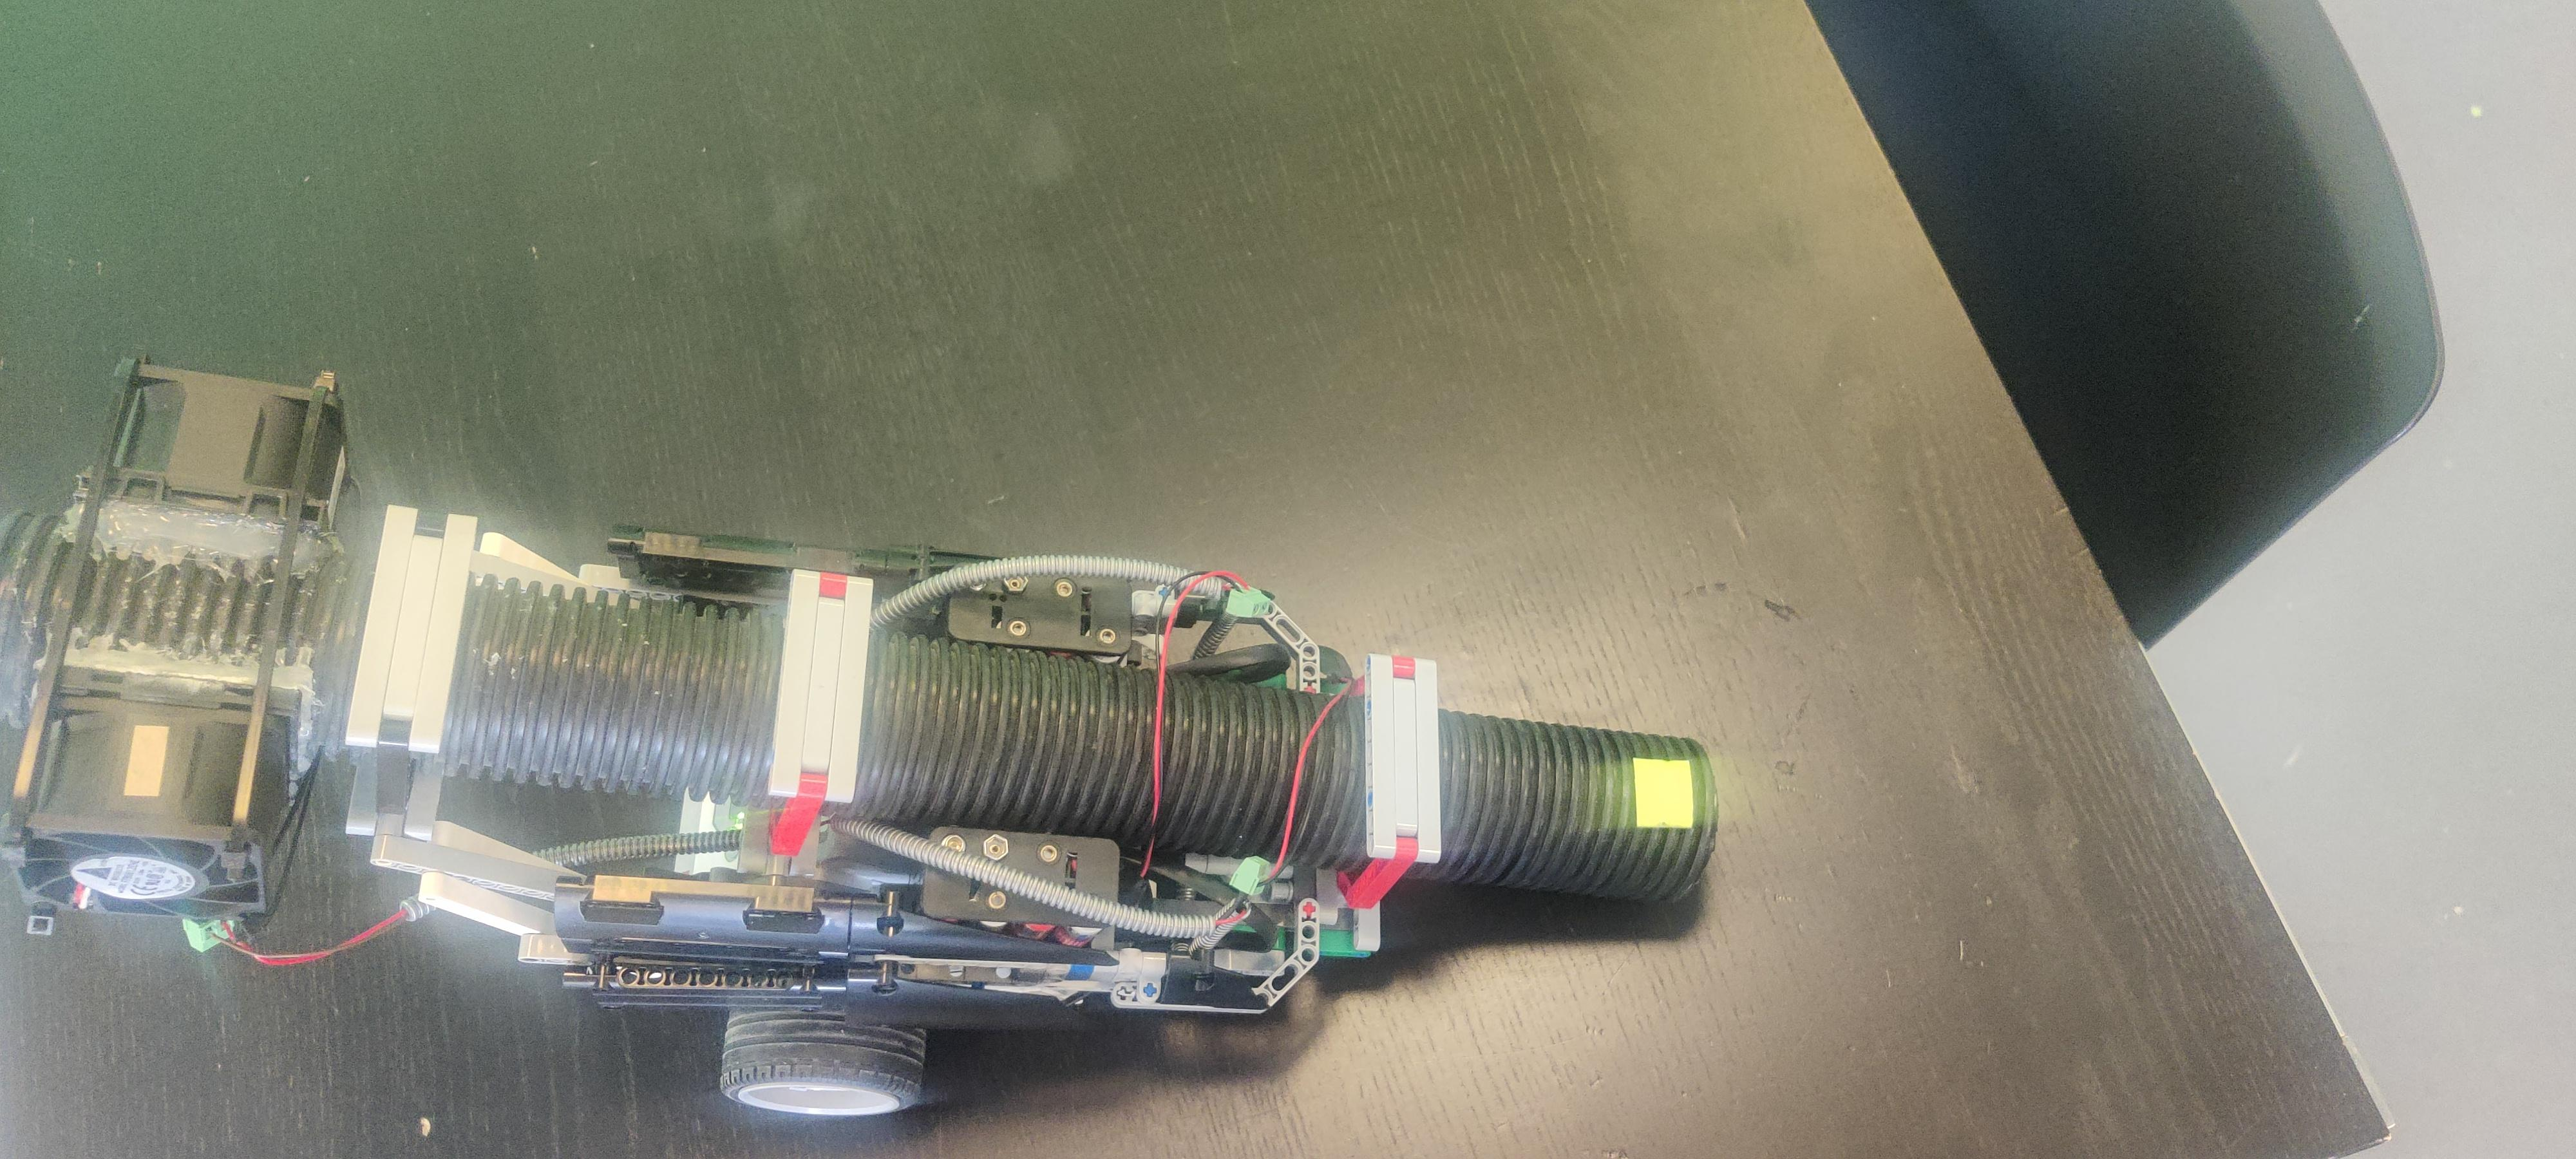robot: (8, 368, 1718, 1125)
robot-front: (1442, 714, 1710, 895)
